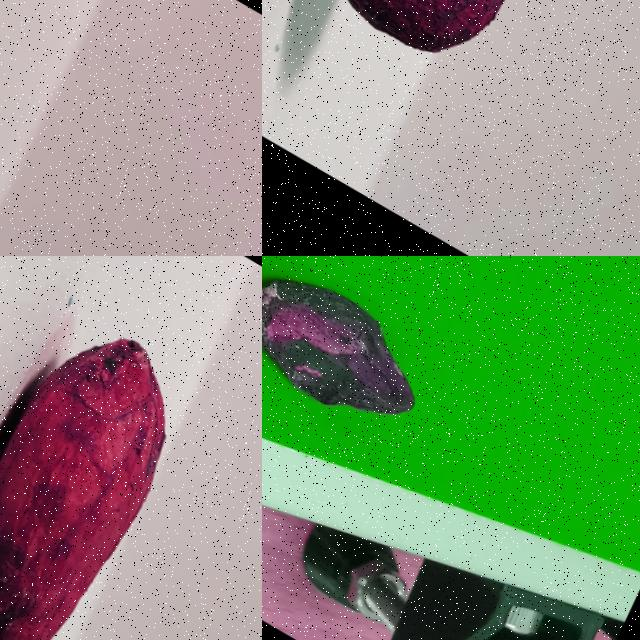Fine_cocoabeans: (0, 256, 261, 639), (262, 0, 639, 189)
Flat_cocoabeans: (262, 256, 475, 482), (0, 0, 83, 255)
